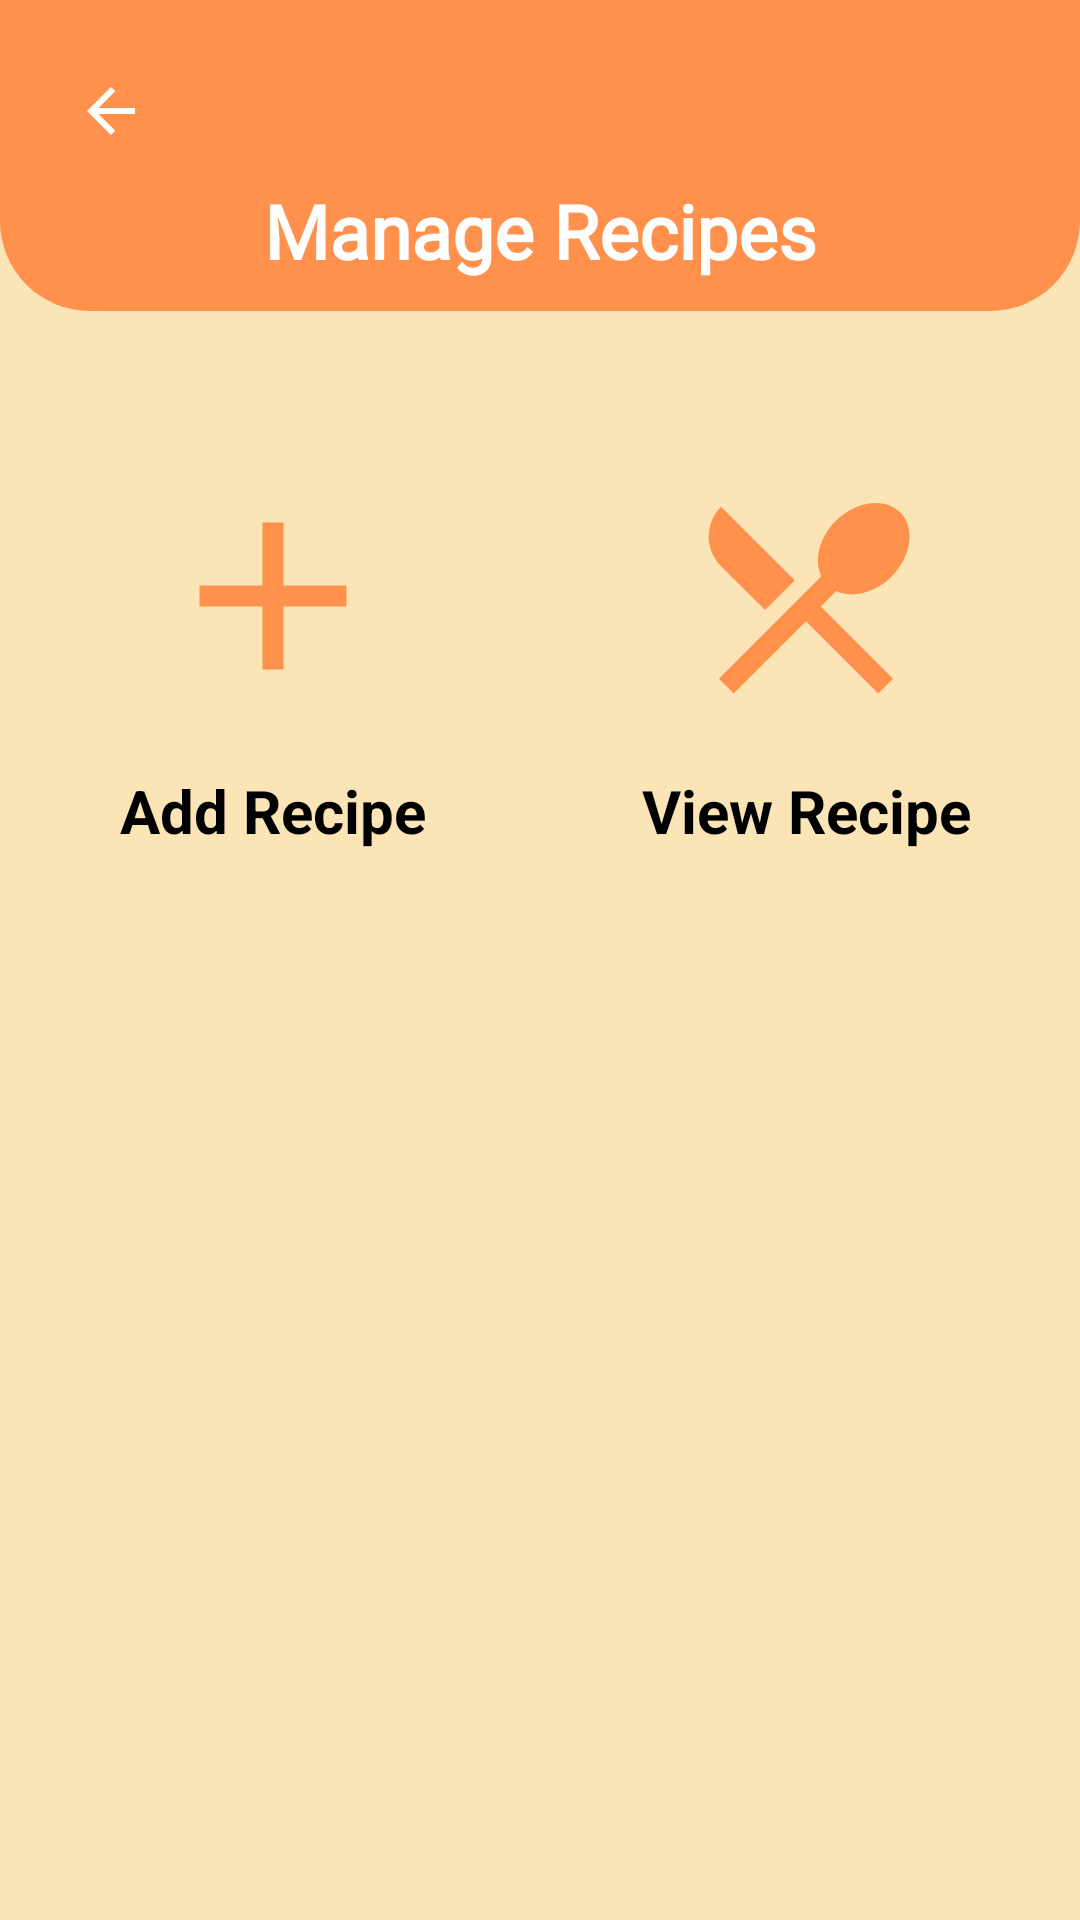

Icon click points for this 1080w x 1920h phone screenshot, format (x,y):
arrow back: (111,111)
local dining: (809,598)
